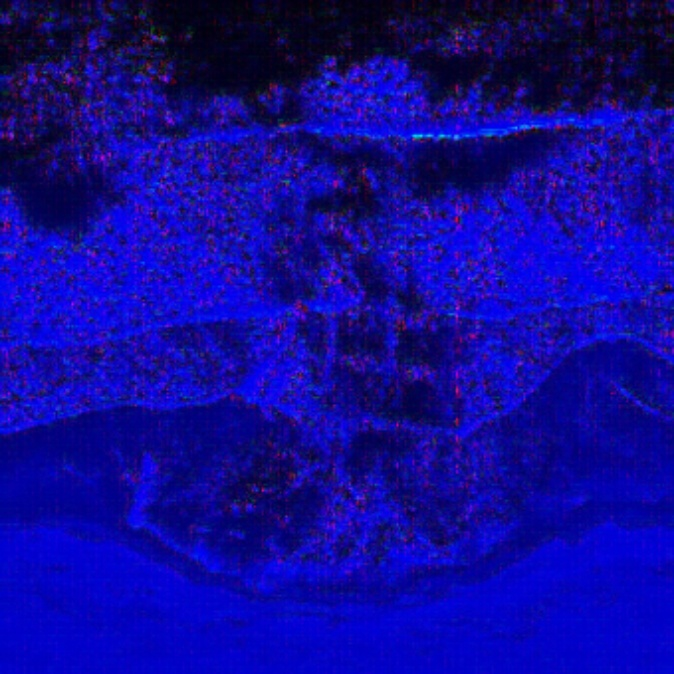rip_current: (231, 92, 532, 508)
